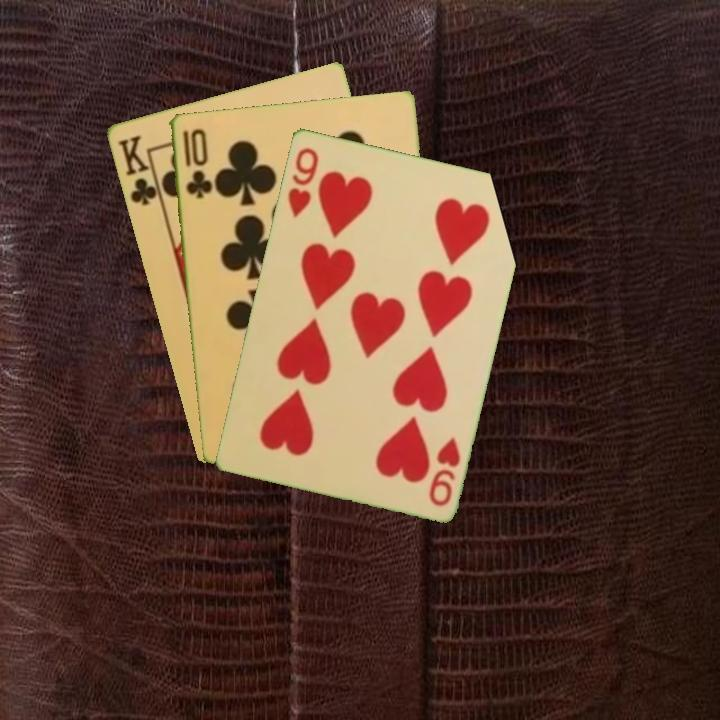10c: (179, 124, 213, 201)
9h: (283, 143, 321, 220), (425, 432, 463, 509)
Kc: (113, 131, 164, 208)
